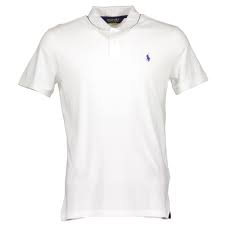S_polo shirt: (19, 4, 212, 219)
